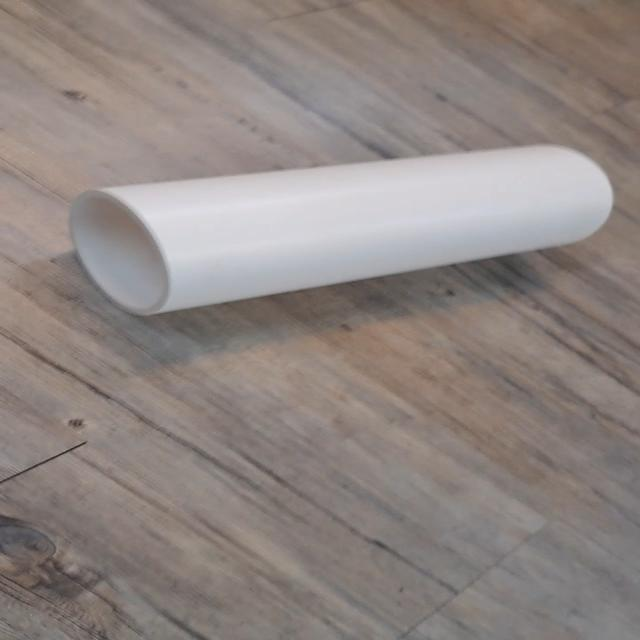CORAL: (78, 144, 620, 318)
